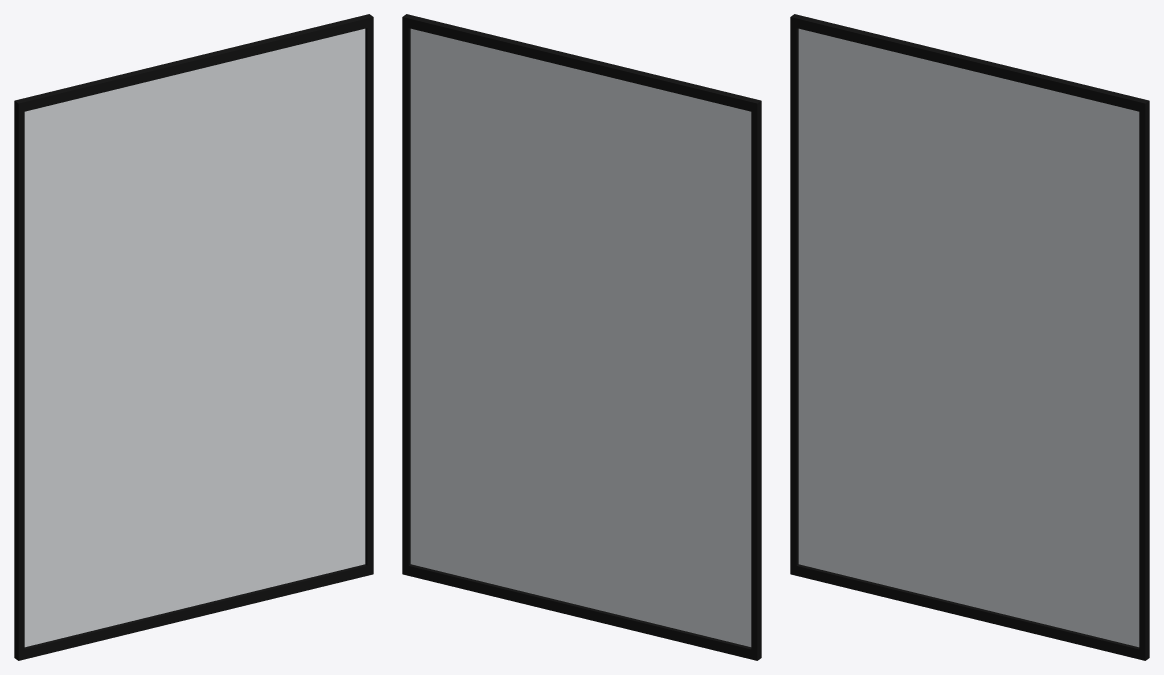
File: PuertaPrinD.fbx
3 renders of one model, left to right at view 1: azimuth 30°, elevation 25°; view 2: azimuth 150°, elevation 25°; view 3: azimuth 330°, elevation 25°, orthographic.
Parts seen in each view (by area): view 1: Cube.012; view 2: Cube.012; view 3: Cube.012.
Part boxes in pixels (left/top/right/bottom): Cube.012: left=14, top=14, right=373, bottom=660; Cube.012: left=402, top=14, right=761, bottom=660; Cube.012: left=790, top=14, right=1149, bottom=660.
Bounding box in the file's own units: 200 × 300 × 4.
Materials: 1 (1 with a texture image).
